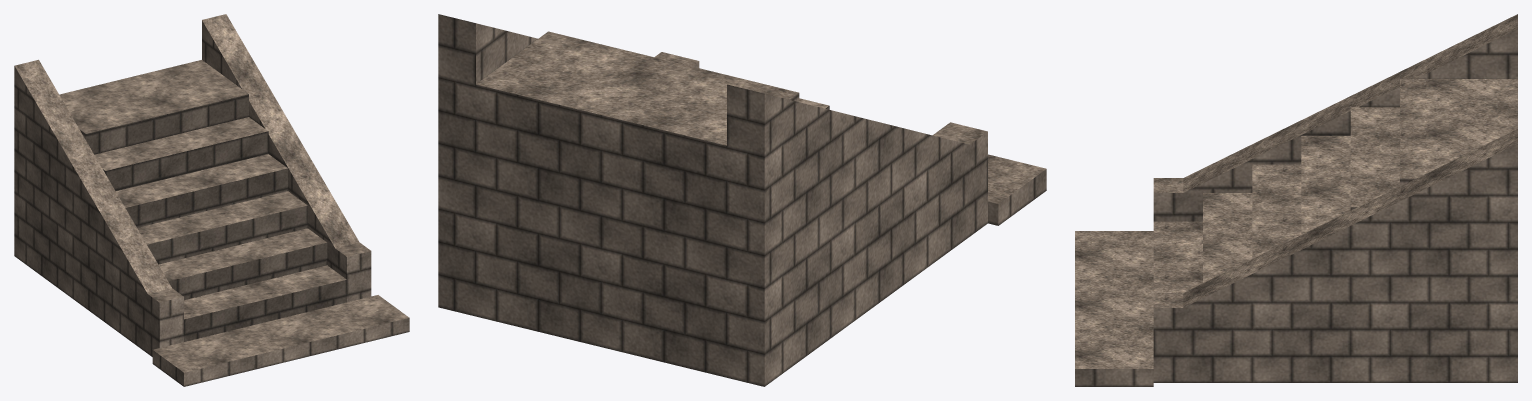
The model's file is stairs-up.glb.
3 views of the same model, side by side, from view 1: azimuth 30°, elevation 25°; view 2: azimuth 150°, elevation 25°; view 3: azimuth 270°, elevation 25° (orthographic). The views are drawn at different scales.
Parts seen in each view (by area): view 1: stairs-up; view 2: stairs-up; view 3: stairs-up.
Part boxes in pixels (x1=…): stairs-up: x1=14, y1=14, x2=409, y2=386; stairs-up: x1=438, y1=14, x2=1046, y2=386; stairs-up: x1=1075, y1=14, x2=1517, y2=386.
Size of the model in its own units: 1.66 by 1.34 by 2.25.
Materials: 3 (3 with a texture image).
